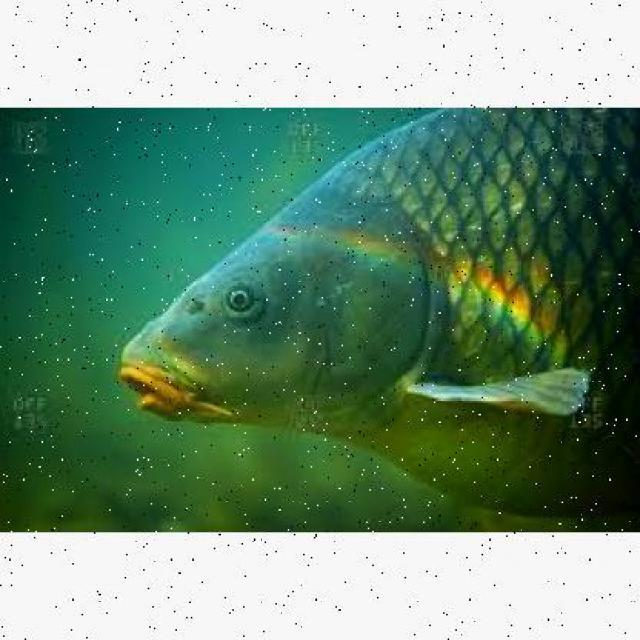ikan-mas: (115, 109, 640, 514)
